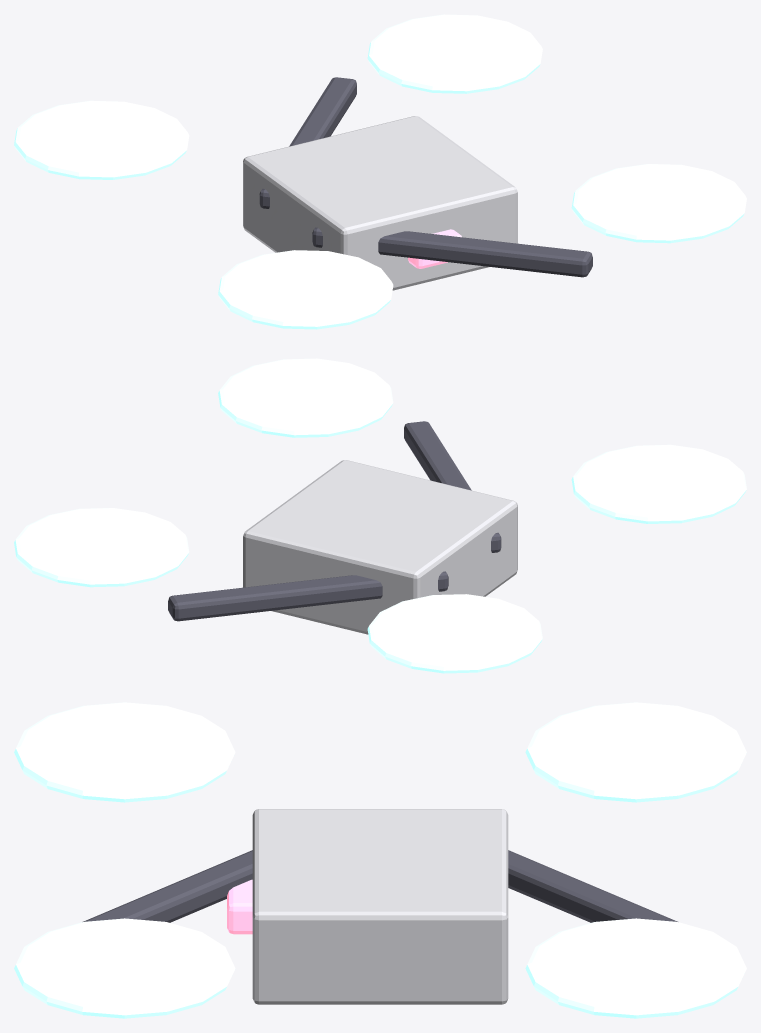
The model's file is toy_drone.glb.
The picture shows the model from 3 angles, top to bottom: view 1: azimuth 30°, elevation 25°; view 2: azimuth 150°, elevation 25°; view 3: azimuth 270°, elevation 25°; orthographic projection. The views are drawn at different scales.
Parts seen in each view (by area): view 1: toy_drone; view 2: toy_drone; view 3: toy_drone.
Boxes of the visible parts, <box> form: toy_drone: <box>14,14,746,329</box>; toy_drone: <box>14,358,746,673</box>; toy_drone: <box>14,702,746,1018</box>.
Size of the model in its own units: 0.86 by 0.1275 by 0.86.
